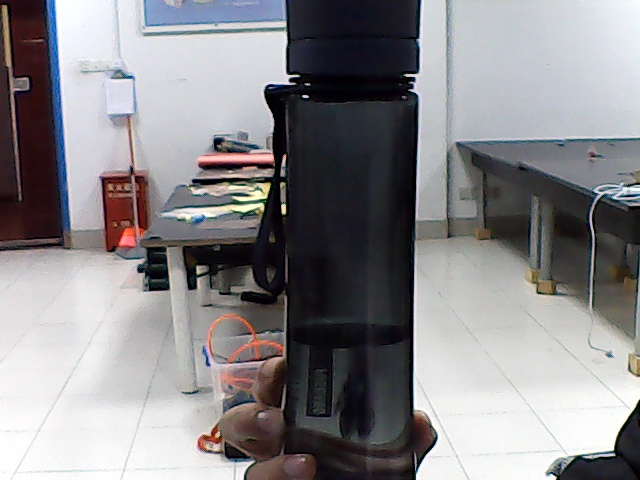cup: (296, 18, 417, 430)
